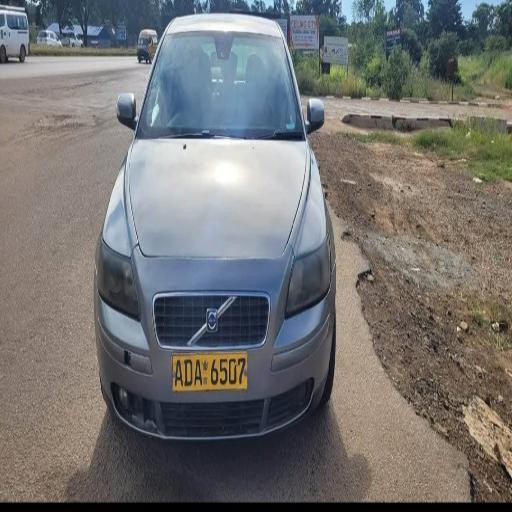number-plates: (172, 352, 248, 388)
